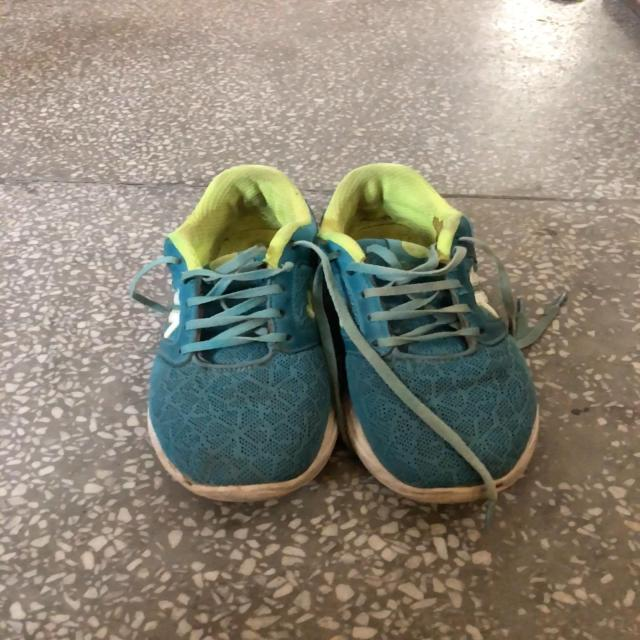shoe: (311, 164, 540, 506), (145, 166, 336, 505)
